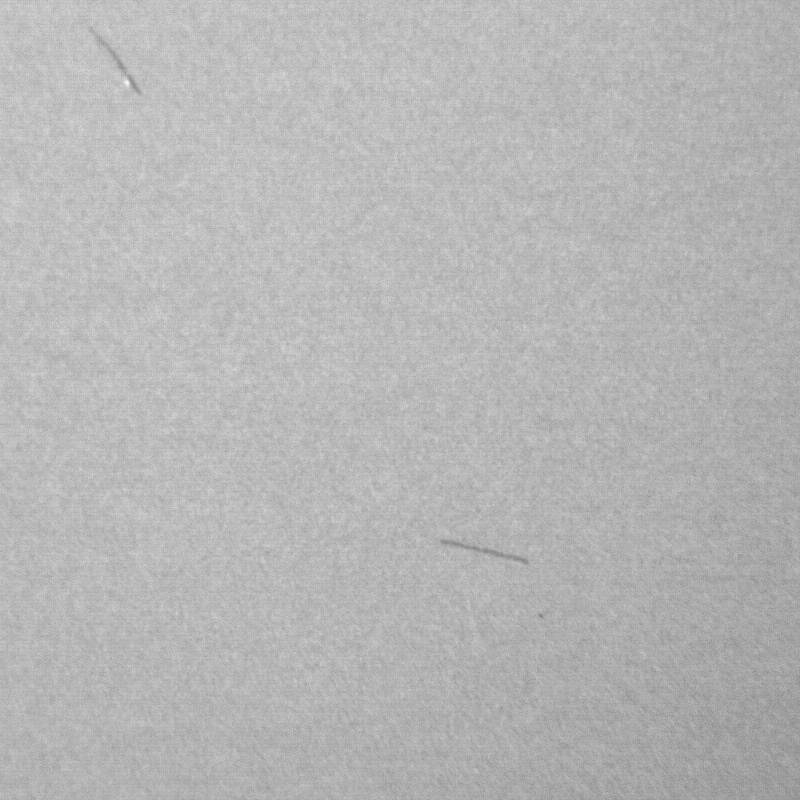defect: (89, 27, 146, 98), (441, 534, 540, 570)
